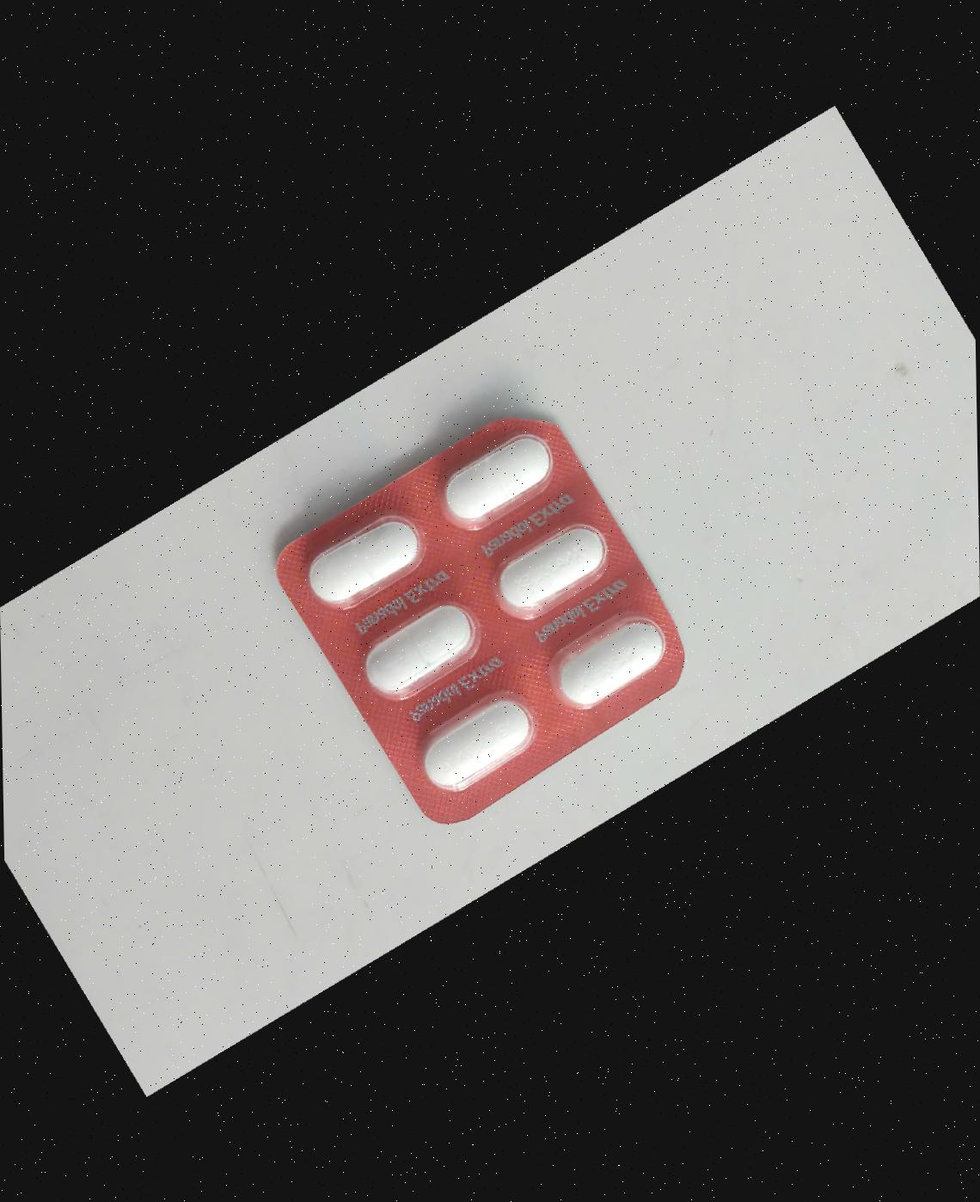Full: (527, 591, 691, 736), (468, 494, 632, 639), (415, 407, 579, 552), (342, 573, 506, 718), (290, 487, 454, 632), (402, 670, 565, 815)
